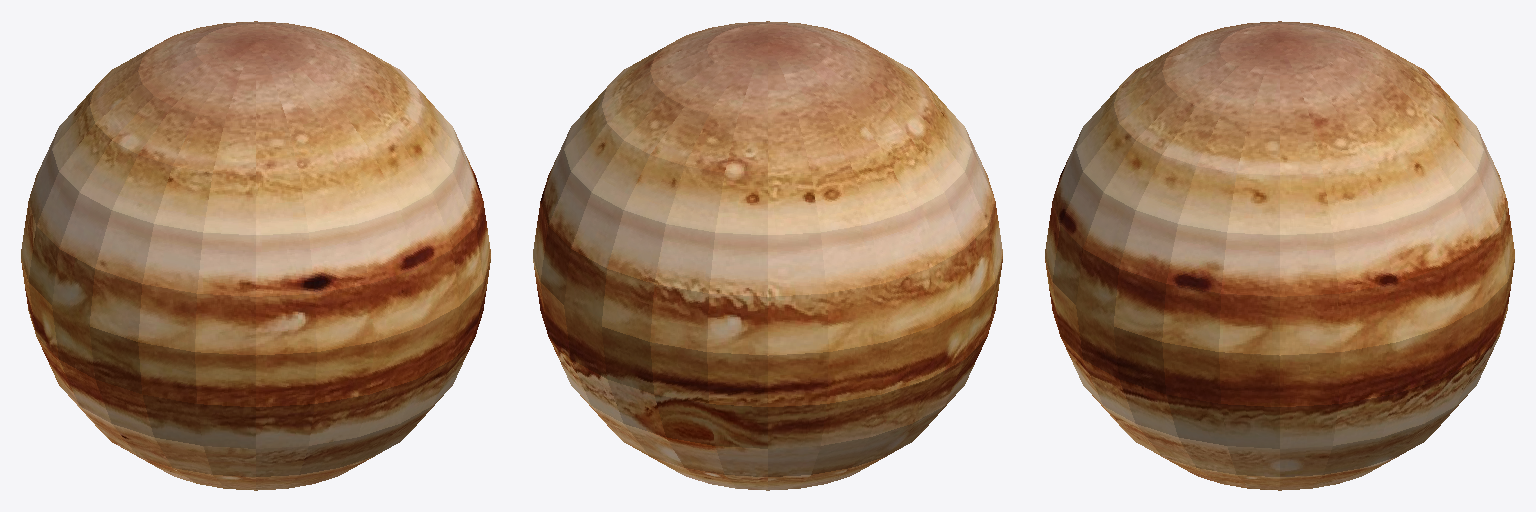
The picture shows the model from 3 angles: view 1: azimuth 30°, elevation 25°; view 2: azimuth 150°, elevation 25°; view 3: azimuth 270°, elevation 25°; orthographic projection.
Parts seen in each view (by area): view 1: Mesh1 ntitled1 Model; view 2: Mesh1 ntitled1 Model; view 3: Mesh1 ntitled1 Model.
Part boxes in pixels (x1,y1,x2,y2): Mesh1 ntitled1 Model: (21, 21, 490, 490); Mesh1 ntitled1 Model: (533, 21, 1002, 490); Mesh1 ntitled1 Model: (1045, 21, 1514, 490).
Bounding box in the file's own units: 14.18 × 14.18 × 14.18.
1 materials, 1 textured.